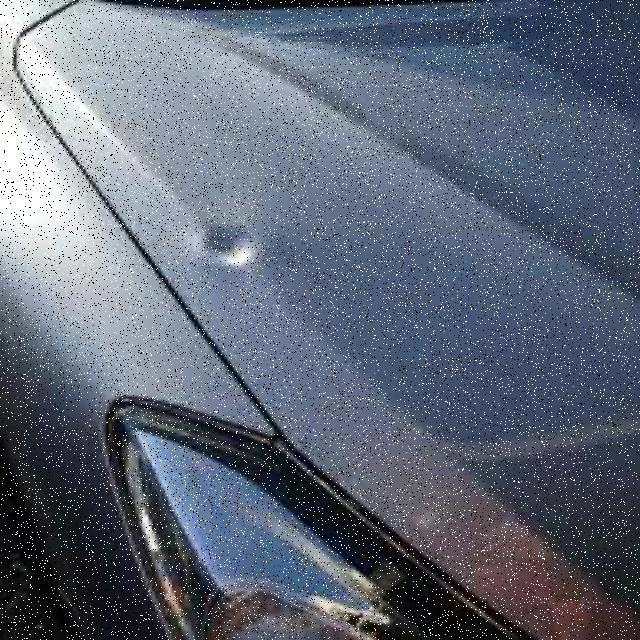bonnet-dent: (0, 0, 637, 485)
